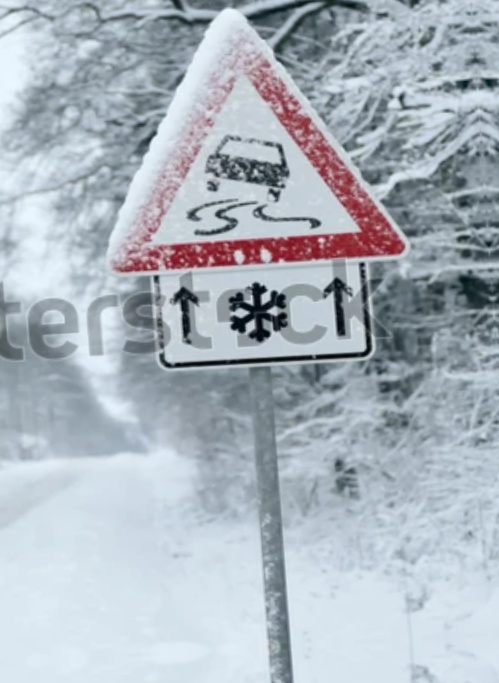Slippery road: (109, 13, 407, 275)
Snowy road: (136, 251, 390, 367)
